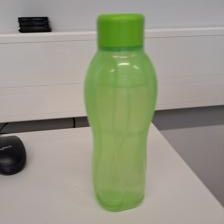bottle: (81, 11, 161, 214)
